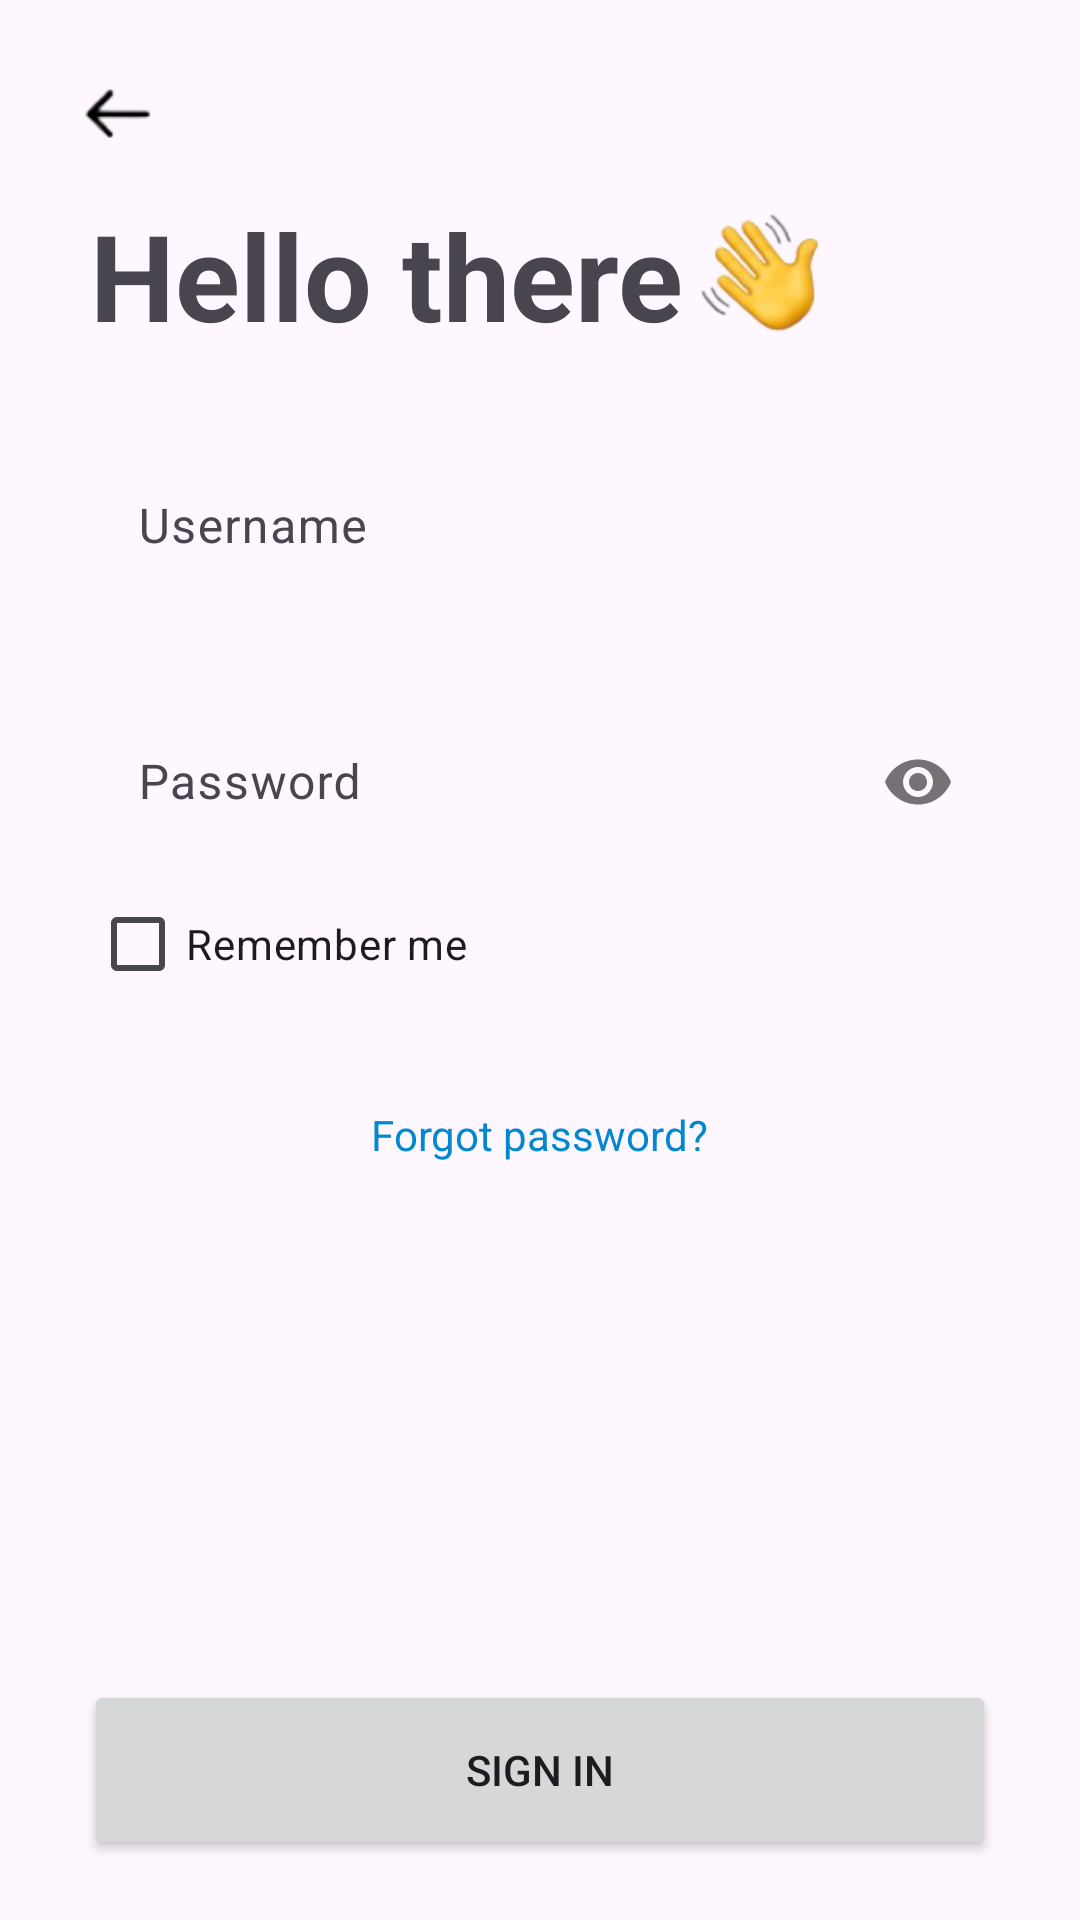

Icon bounding boxes for this 1080px×1920px phone screenshot, format (x1, y1, x2, y2):
left: (85, 89, 150, 138)
waving: (701, 214, 819, 331)
